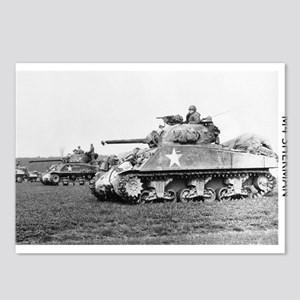Battle Tank: (92, 122, 277, 209), (33, 146, 112, 185)
